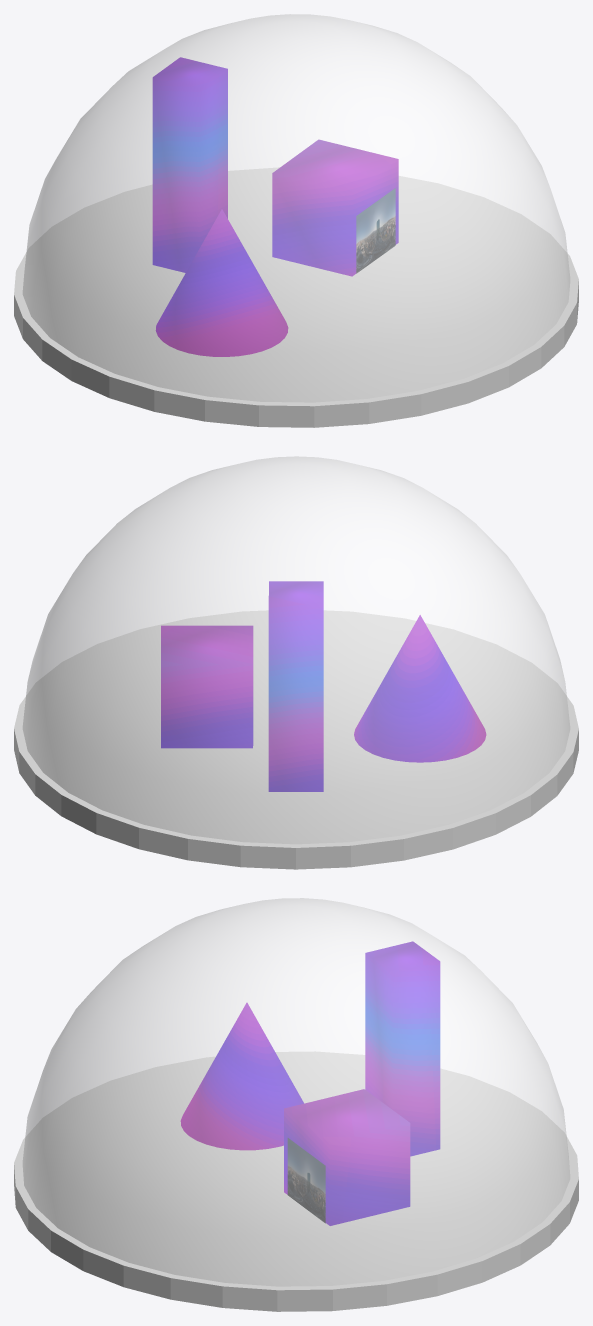
Rendered from example2.gltf.
3 renders of one model, top to bottom at view 1: azimuth 30°, elevation 25°; view 2: azimuth 150°, elevation 25°; view 3: azimuth 270°, elevation 25°, orthographic.
Parts seen in each view (by area): view 1: Sphere, Cylinder, Cube.001, portal; view 2: Sphere, Cylinder, Cube.001; view 3: Sphere, Cylinder, Cube.001, portal.
Part boxes in pixels (box(x1,y1,x2,y2)): Sphere: box(22, 14, 570, 402); Cylinder: box(14, 167, 578, 427); Cube.001: box(152, 57, 398, 356); portal: box(356, 188, 395, 273); Sphere: box(22, 456, 570, 844); Cylinder: box(14, 610, 578, 869); Cube.001: box(161, 581, 486, 791); Sphere: box(22, 898, 570, 1286); Cylinder: box(14, 1051, 578, 1311); Cube.001: box(180, 941, 440, 1225); portal: box(287, 1138, 325, 1223).
Size of what is drawn, in the model's own units: 20.68 by 10.86 by 20.68.
Materials: 3 (2 with a texture image).
